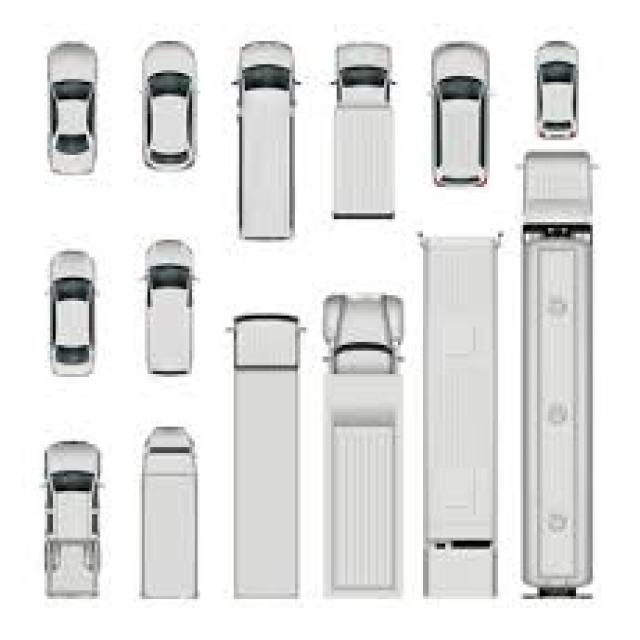truck: (232, 316, 300, 602), (237, 38, 296, 243), (338, 42, 398, 218)
